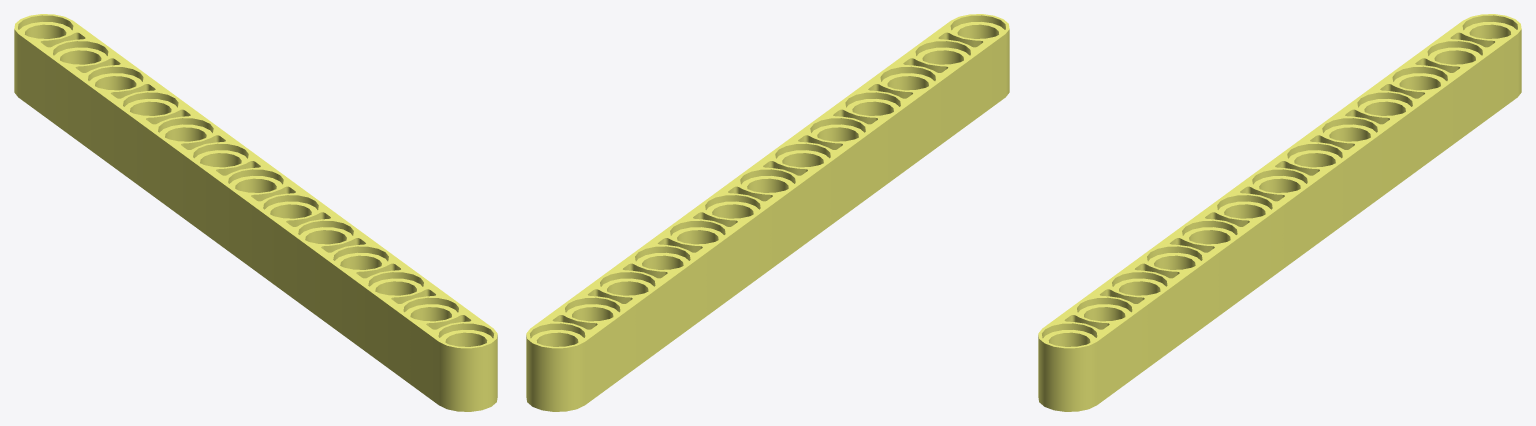
3 views of the same model, side by side, from view 1: azimuth 30°, elevation 25°; view 2: azimuth 150°, elevation 25°; view 3: azimuth 330°, elevation 25° (orthographic).
Parts seen in each view (by area): view 1: 41239.dat; view 2: 41239.dat; view 3: 41239.dat.
Boxes of the visible parts, x1,y1,x2,y2 form: 41239.dat: (14,14,497,411); 41239.dat: (526,14,1009,411); 41239.dat: (1038,14,1521,411).
Bounding box in the file's own units: 0.0072 × 0.008 × 0.1032.
